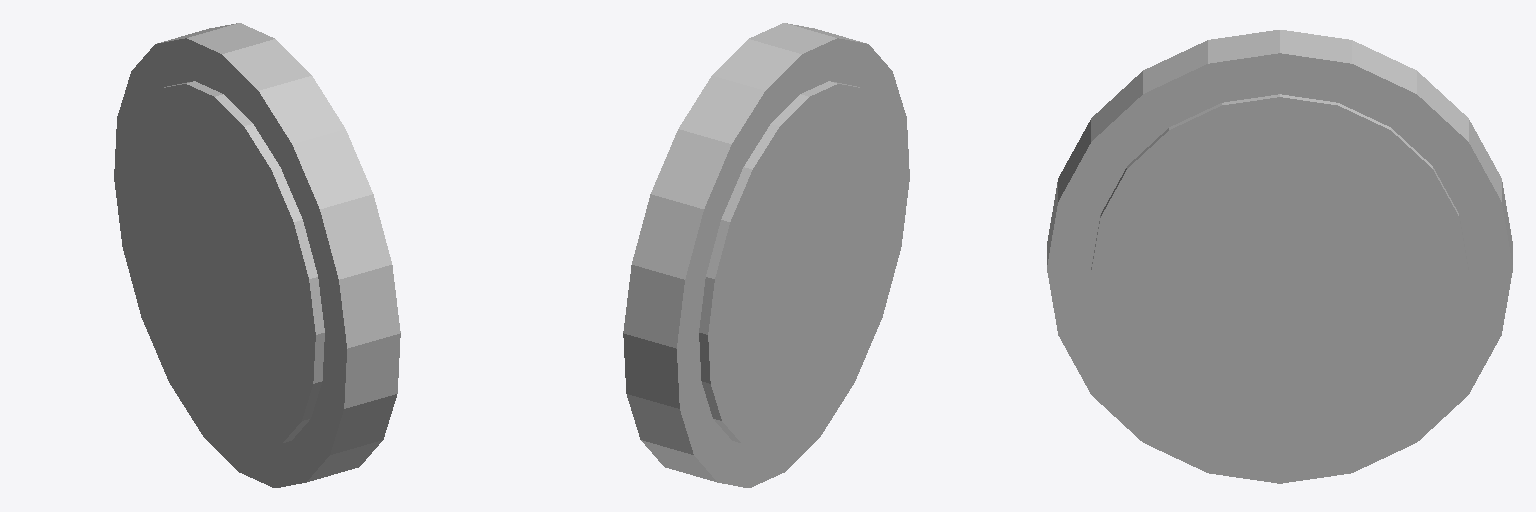
Rendered from ScholarsVR_OpenMouth.obj.
3 views of the same model, side by side, from view 1: azimuth 30°, elevation 25°; view 2: azimuth 150°, elevation 25°; view 3: azimuth 270°, elevation 25° (orthographic).
Visible parts, largest first — view 1: pCylinder12, pCylinder11; view 2: pCylinder12, pCylinder11; view 3: pCylinder12, pCylinder11.
Part boxes in pixels (bbox=[...]): pCylinder12: bbox=[127, 81, 324, 447]; pCylinder11: bbox=[114, 23, 400, 487]; pCylinder12: bbox=[699, 81, 896, 447]; pCylinder11: bbox=[623, 23, 909, 487]; pCylinder12: bbox=[1091, 94, 1468, 444]; pCylinder11: bbox=[1047, 30, 1512, 483].
Size of the model in its own units: 0.4824 by 2.36 by 2.35.